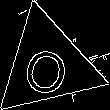O_N: (20, 34, 75, 96)
